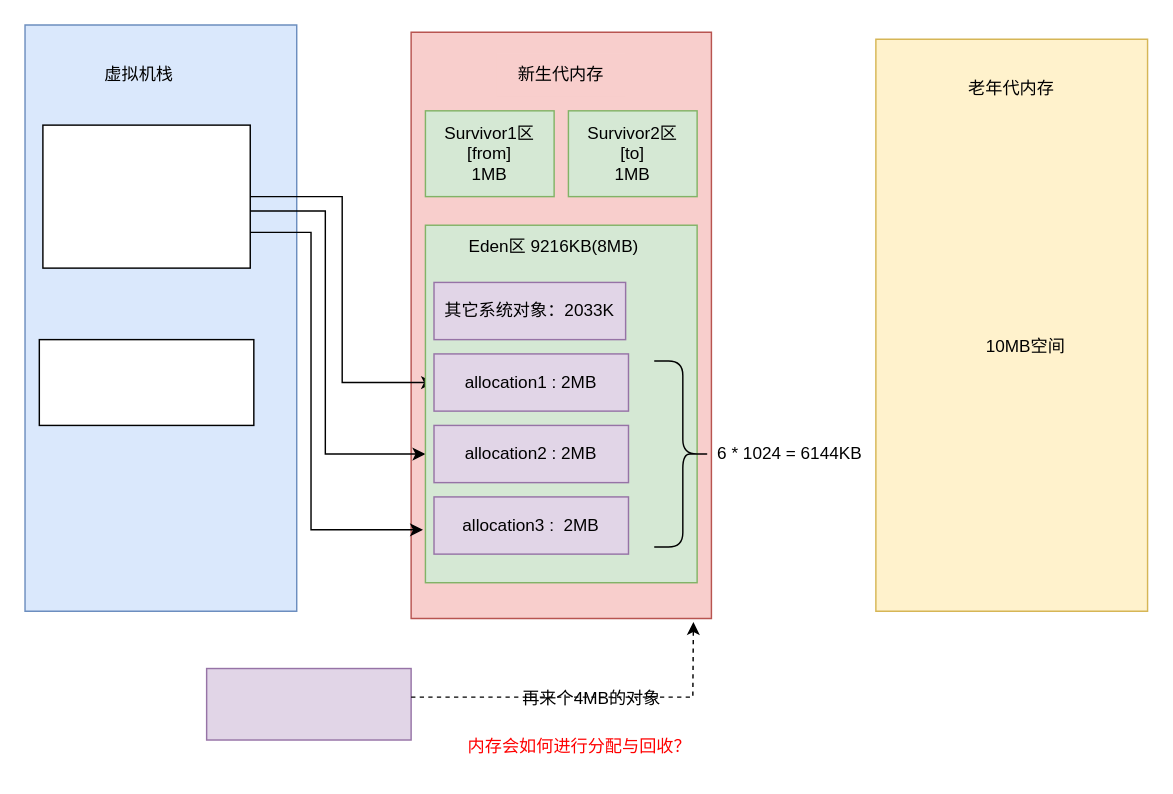
Image size: 1173x794. Some labels were removed from this diagram. The centre of each missing label's shape, as x and y in pixels:
"allocation4 : 4MB" goes at [308,703].
"main栈帧" goes at [146,381].
"testAllocation()栈帧 局部变量 allocation1 allocation2 allocation3" goes at [145,196].
